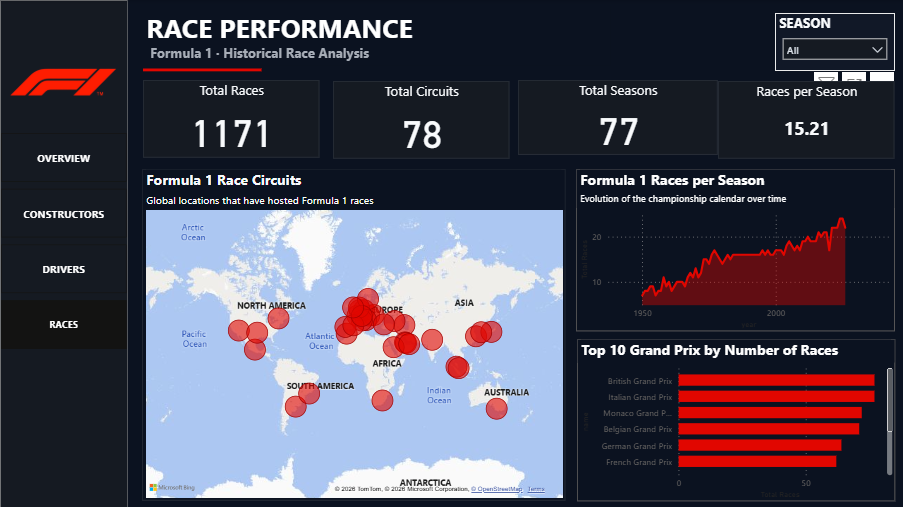

Layout of this report page (visuals, bound fields, positions):
{"tool":"powerbi","page":{"name":"RACES","canvas":[1280,720],"ordinal":3},"visuals":[{"type":"map","title":"Formula 1 Race Circuits","fields":{"Category":["circuits.country"],"Y":["Avg(circuits.lat)"],"X":["Avg(circuits.lng)"],"Size":["races.Total Races"]},"box":[201.7,240,600,470],"z":0},{"type":"slicer","title":"SEASON","fields":{"Values":["races.year"]},"box":[1098,18,170,82],"z":1000},{"type":"textbox","box":[202,8,662,84],"z":2000},{"type":"shape","box":[202,24,168,150],"z":3000},{"type":"card","title":"Total Races","fields":{"Values":["CountNonNull(races.raceId)"]},"box":[202,114,250,110],"z":4000},{"type":"card","title":"Total Circuits","fields":{"Values":["CountNonNull(circuits.circuitId)"]},"box":[471.7,115,250,110],"z":5000},{"type":"card","title":"Total Seasons","fields":{"Values":["CountNonNull(seasons.year)"]},"box":[734.8,113,282.6,105.8],"z":6000},{"type":"card","title":"Races per Season","fields":{"Values":["seasons.Races per Season"]},"box":[1017.1,114.3,250,110],"z":7000},{"type":"shape","box":[0,0,181.4,720],"z":8000},{"type":"image","box":[6,34,168,158],"z":9000},{"type":"pageNavigator","box":[2,188,178,308],"z":10000},{"type":"areaChart","title":"Formula 1 Races per Season","fields":{"Category":["races.year"],"Y":["races.Total Races"]},"box":[816.7,240,451.7,230],"z":11000},{"type":"clusteredBarChart","title":"Top 10 Grand Prix by Number of Races","fields":{"Y":["races.Total Races"],"Category":["races.name"]},"box":[817.1,480,451.4,230],"z":12000}]}

Visuals, with their boxes on the page's 1280x720 design canvas (x1, y1, x2, y2). These are canvas units, not pixel positions in the 903x507 screenshot, which may show the page scaled, cropped or inside an application window:
"Formula 1 Race Circuits" map: Rect(202, 240, 802, 710)
"SEASON" slicer: Rect(1098, 18, 1268, 100)
textbox: Rect(202, 8, 864, 92)
shape: Rect(202, 24, 370, 174)
"Total Races" card: Rect(202, 114, 452, 224)
"Total Circuits" card: Rect(472, 115, 722, 225)
"Total Seasons" card: Rect(735, 113, 1017, 219)
"Races per Season" card: Rect(1017, 114, 1267, 224)
shape: Rect(0, 0, 181, 720)
image: Rect(6, 34, 174, 192)
pageNavigator: Rect(2, 188, 180, 496)
"Formula 1 Races per Season" areaChart: Rect(817, 240, 1268, 470)
"Top 10 Grand Prix by Number of Races" clusteredBarChart: Rect(817, 480, 1268, 710)
